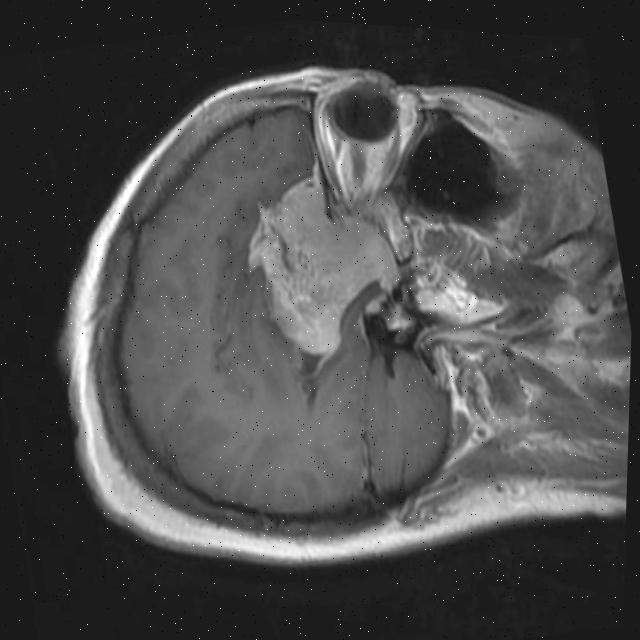Meningioma: (225, 137, 422, 390)
